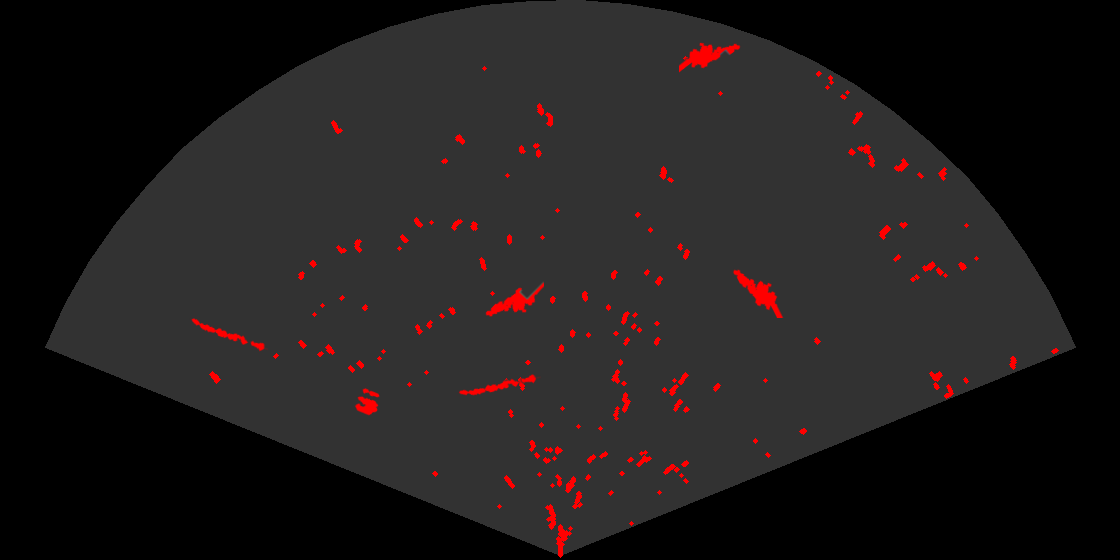ball: (353, 387, 381, 417)
chain: (189, 317, 268, 353), (457, 373, 541, 397)
frogman: (732, 268, 785, 318), (484, 281, 544, 318), (679, 41, 742, 74)
